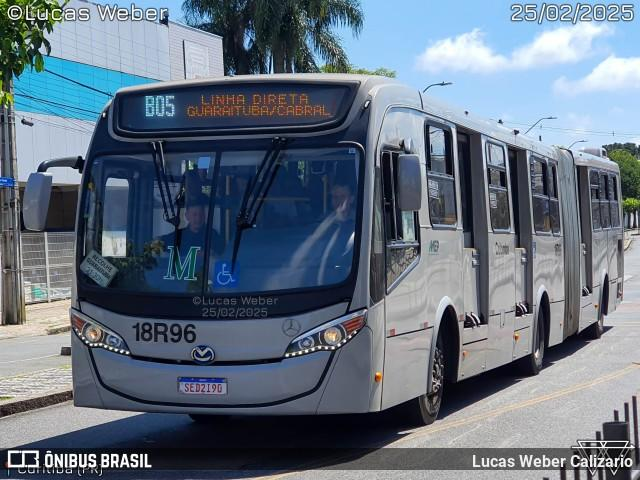GUARAITUBA CABRAL: (183, 104, 331, 121)
